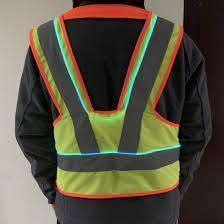Vest: (34, 11, 179, 192)
